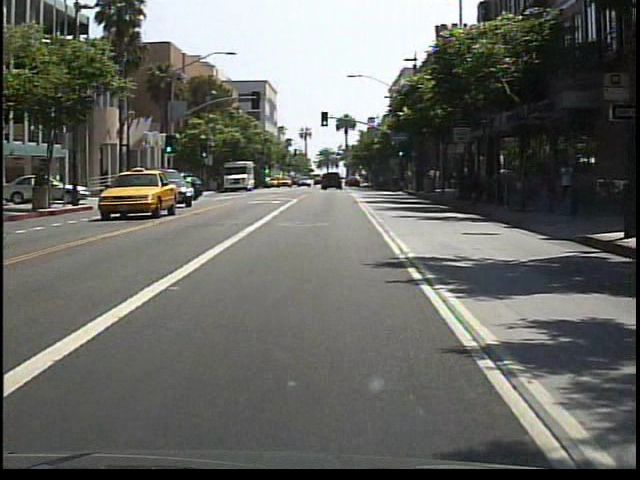person: (557, 156, 580, 233)
